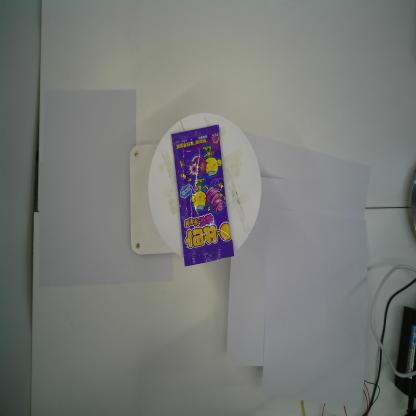Candy: (170, 124, 235, 267)
